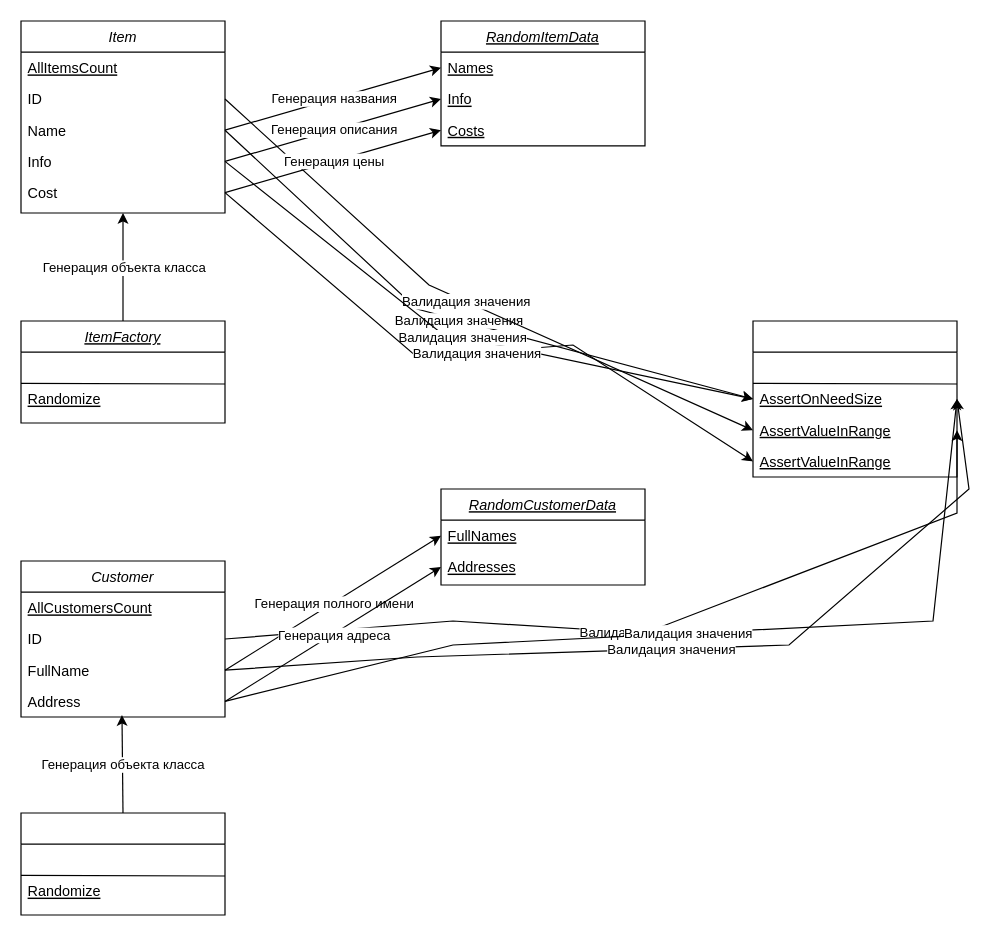
Image size: 1000x936. Some labels were removed from this diagram. The shapes that lost their labels are listed below. From the top down, each one's box as (x1, y1, x2, y2) in pixels, then its label:
(752, 320, 957, 477): ValueValidator
(20, 812, 225, 915): CustomerFactory
